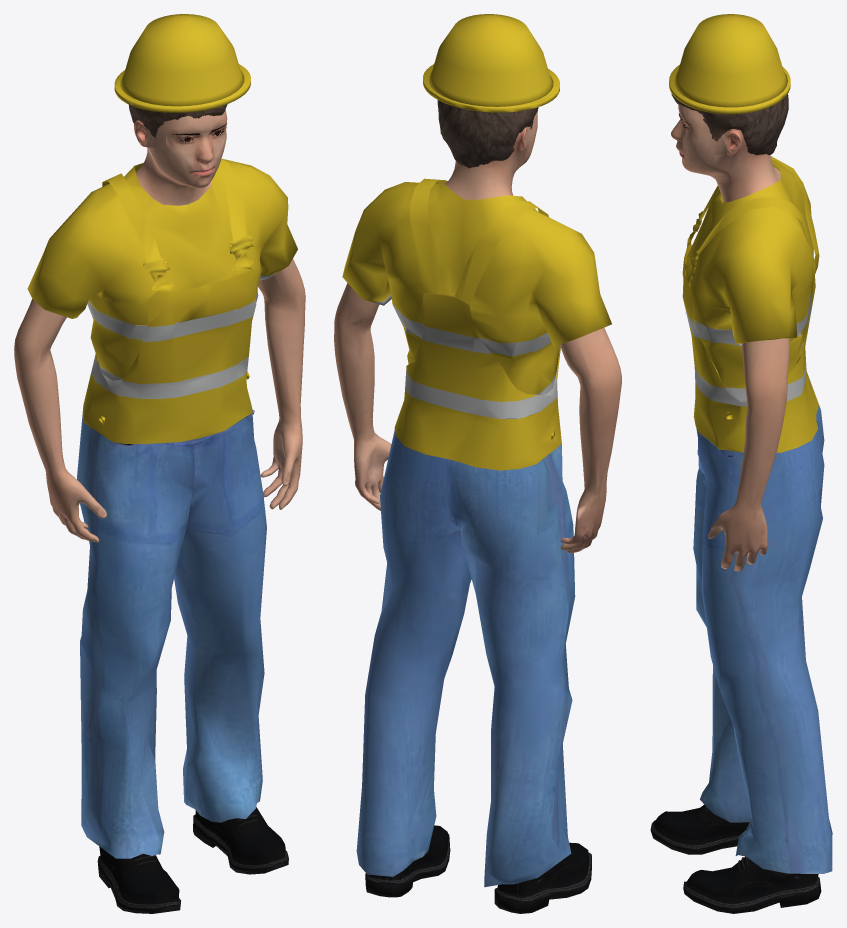
Rendered from technician.glb.
The picture shows the model from 3 angles, left to right: view 1: azimuth 30°, elevation 25°; view 2: azimuth 150°, elevation 25°; view 3: azimuth 270°, elevation 25°; orthographic projection. The views are drawn at different scales.
Visible parts, largest first — view 1: male_worksuit01, Drew | anatomical body, Worker | original hardhat shell, shoes03, Worker | integral hardhat brim, short02; view 2: male_worksuit01, Drew | anatomical body, Worker | original hardhat shell, shoes03, short02, Worker | integral hardhat brim; view 3: male_worksuit01, Drew | anatomical body, shoes03, Worker | original hardhat shell, short02, Worker | integral hardhat brim.
Part boxes in pixels (x1,y1,x2,y2): male_worksuit01: [27, 158, 297, 858]; Drew | anatomical body: [14, 110, 305, 542]; Worker | original hardhat shell: [120, 14, 244, 106]; shoes03: [97, 807, 288, 913]; Worker | integral hardhat brim: [114, 64, 250, 112]; short02: [129, 104, 227, 137]; male_worksuit01: [342, 178, 611, 887]; Drew | anatomical body: [334, 110, 621, 553]; Worker | original hardhat shell: [428, 14, 553, 106]; shoes03: [365, 825, 591, 913]; short02: [437, 100, 538, 168]; Worker | integral hardhat brim: [423, 64, 559, 112]; male_worksuit01: [682, 156, 832, 873]; Drew | anatomical body: [671, 104, 789, 571]; shoes03: [650, 804, 821, 913]; Worker | original hardhat shell: [674, 14, 787, 107]; short02: [671, 94, 788, 155]; Worker | integral hardhat brim: [669, 64, 790, 114].
Size of the model in its own units: 0.6469 by 1.89 by 0.3671.
Materials: 11 (11 with a texture image).
